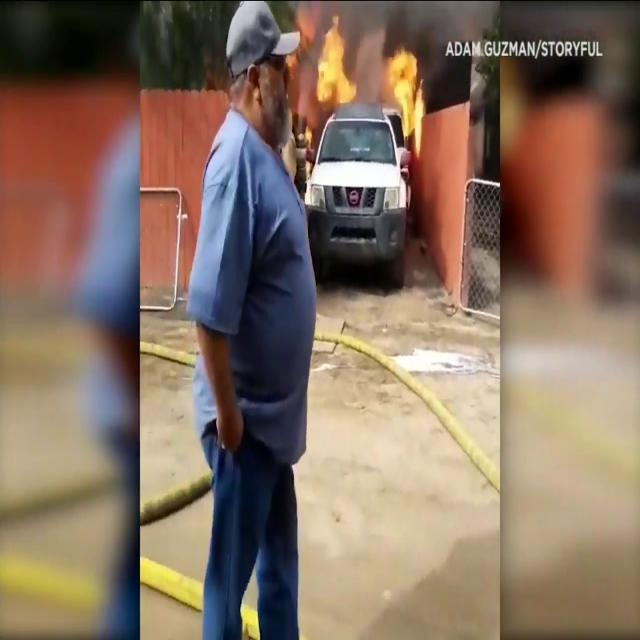Fire: (380, 42, 430, 159), (310, 11, 358, 111)
